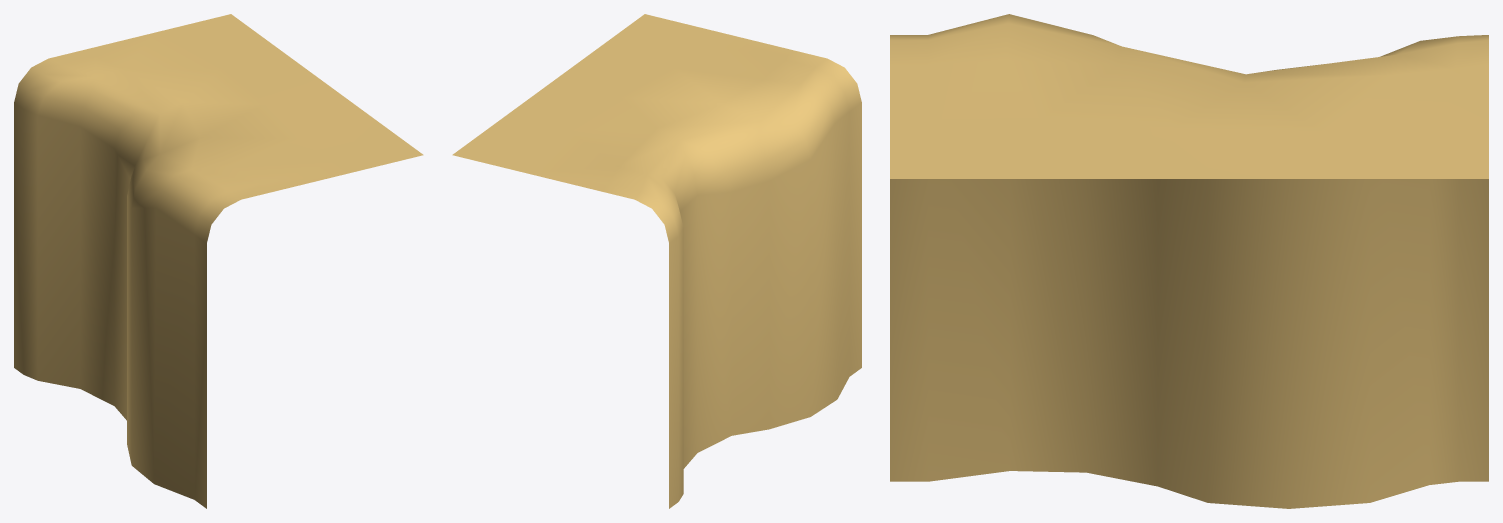
Rendered from SandBlock_Edge_Mesh.fbx.
3 views of the same model, side by side, from view 1: azimuth 30°, elevation 25°; view 2: azimuth 150°, elevation 25°; view 3: azimuth 270°, elevation 25° (orthographic). The views are drawn at different scales.
Visible parts, largest first — view 1: SandBlock_Edge; view 2: SandBlock_Edge; view 3: SandBlock_Edge.
Part boxes in pixels (x1=…): SandBlock_Edge: x1=14, y1=14, x2=423, y2=508; SandBlock_Edge: x1=452, y1=14, x2=861, y2=508; SandBlock_Edge: x1=890, y1=14, x2=1488, y2=508.
Size of the model in its own units: 138 by 200 by 175.
